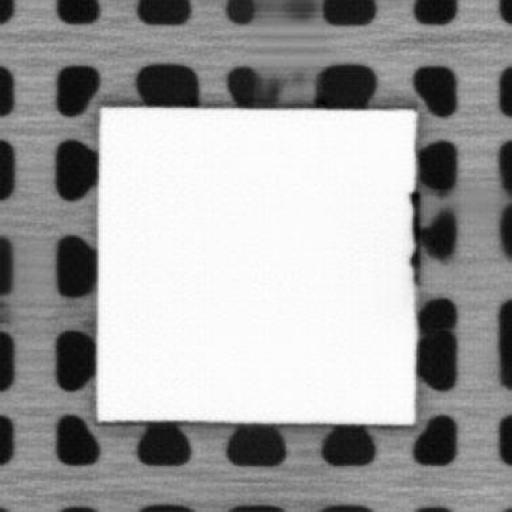DIE_BROKEN: (406, 185, 420, 276)
